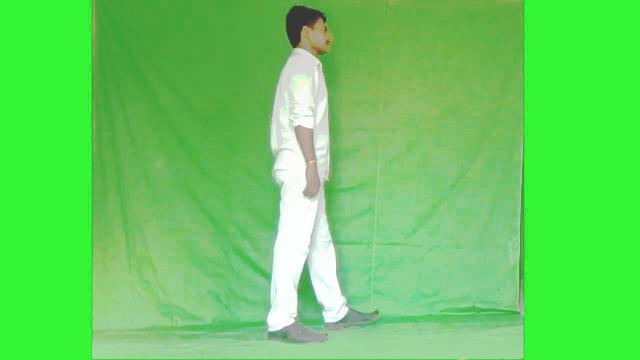berjalan: (260, 0, 382, 344)
